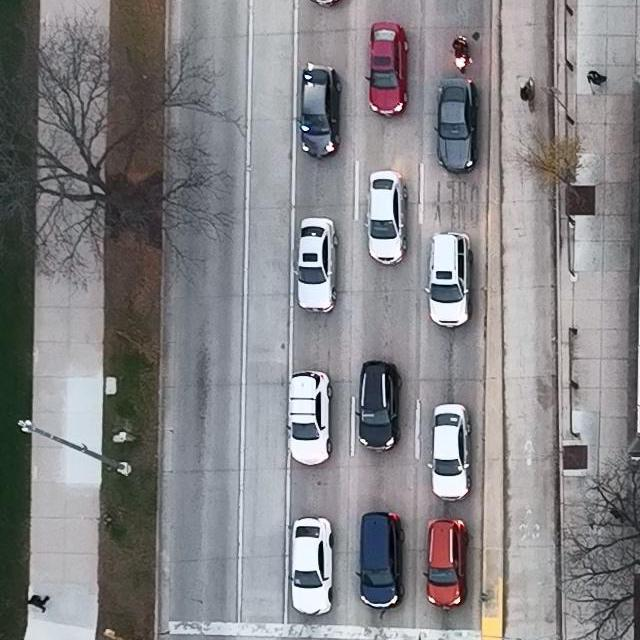car: (355, 512, 406, 610), (423, 231, 473, 328), (284, 370, 333, 467), (293, 217, 339, 315), (289, 516, 334, 616), (433, 76, 478, 175), (296, 63, 342, 159), (428, 402, 472, 502), (365, 23, 410, 120), (365, 169, 409, 266), (422, 518, 468, 610), (356, 359, 401, 452)
